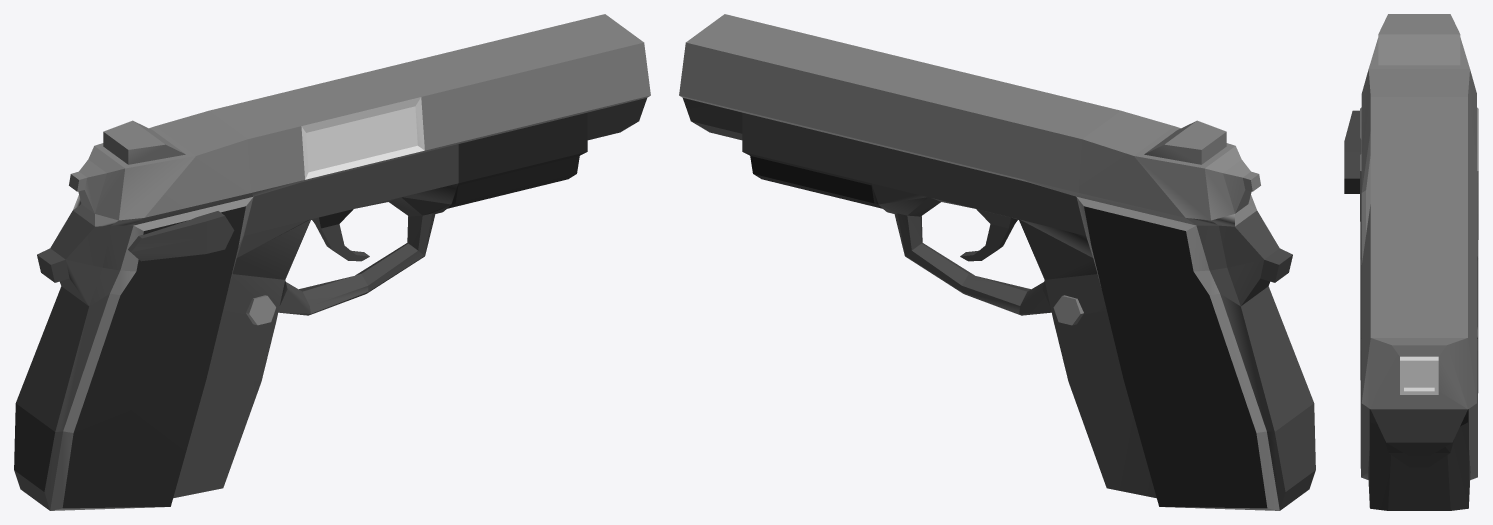
The model's file is Pistol.FBX.
3 renders of one model, left to right at view 1: azimuth 30°, elevation 25°; view 2: azimuth 150°, elevation 25°; view 3: azimuth 270°, elevation 25°, orthographic. The views are drawn at different scales.
Parts seen in each view (by area): view 1: Pistol; view 2: Pistol; view 3: Pistol.
Part boxes in pixels (<box>): Pistol: <box>14,14,650,510</box>; Pistol: <box>679,14,1315,510</box>; Pistol: <box>1344,14,1478,510</box>.
Size of the model in its own units: 98.92 by 56.63 by 15.3.
1 material, 1 textured.
